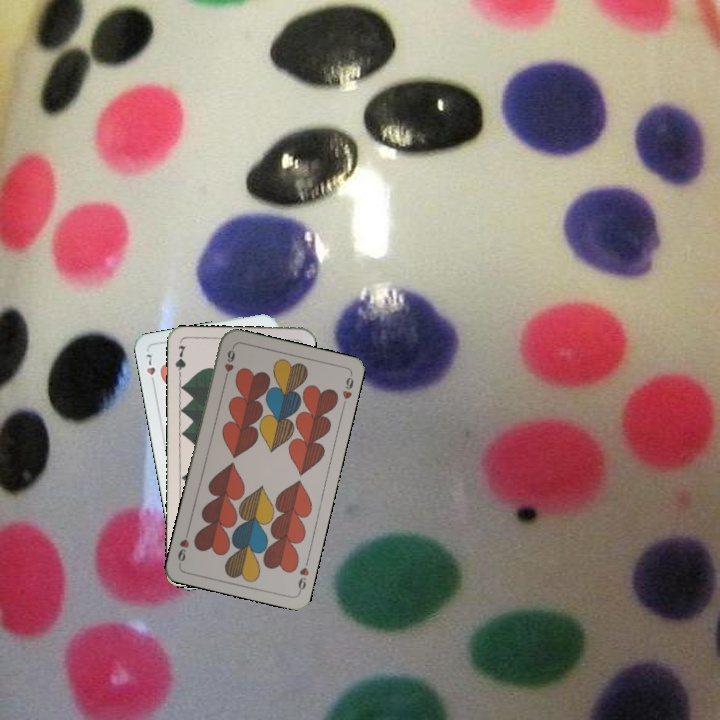G7: (171, 342, 188, 381)
H7: (142, 350, 158, 388)
H9: (220, 343, 238, 383), (294, 555, 312, 595)
